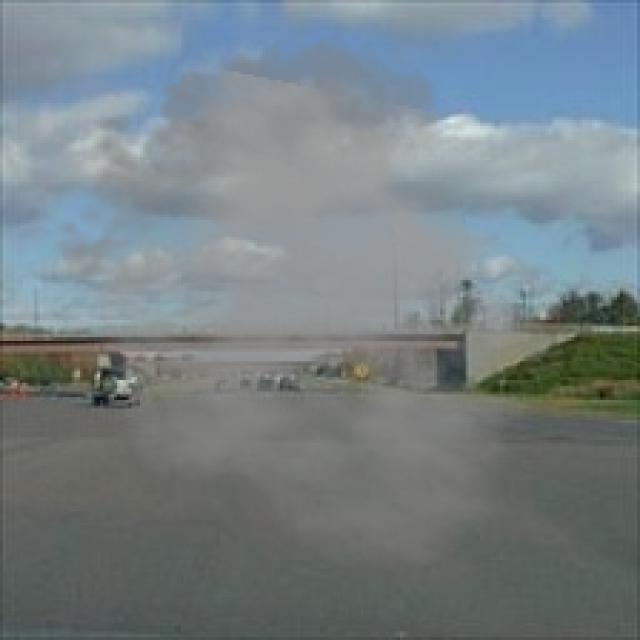smoke: (31, 29, 580, 574)
